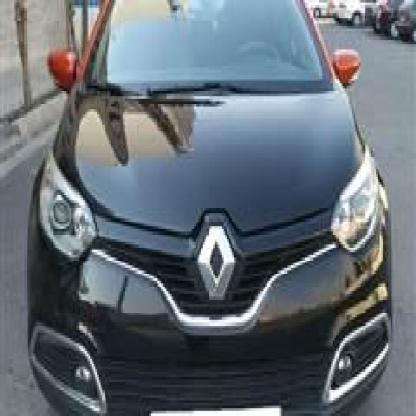Car: (21, 0, 400, 416), (338, 0, 363, 32), (397, 2, 416, 36), (378, 2, 397, 36)
